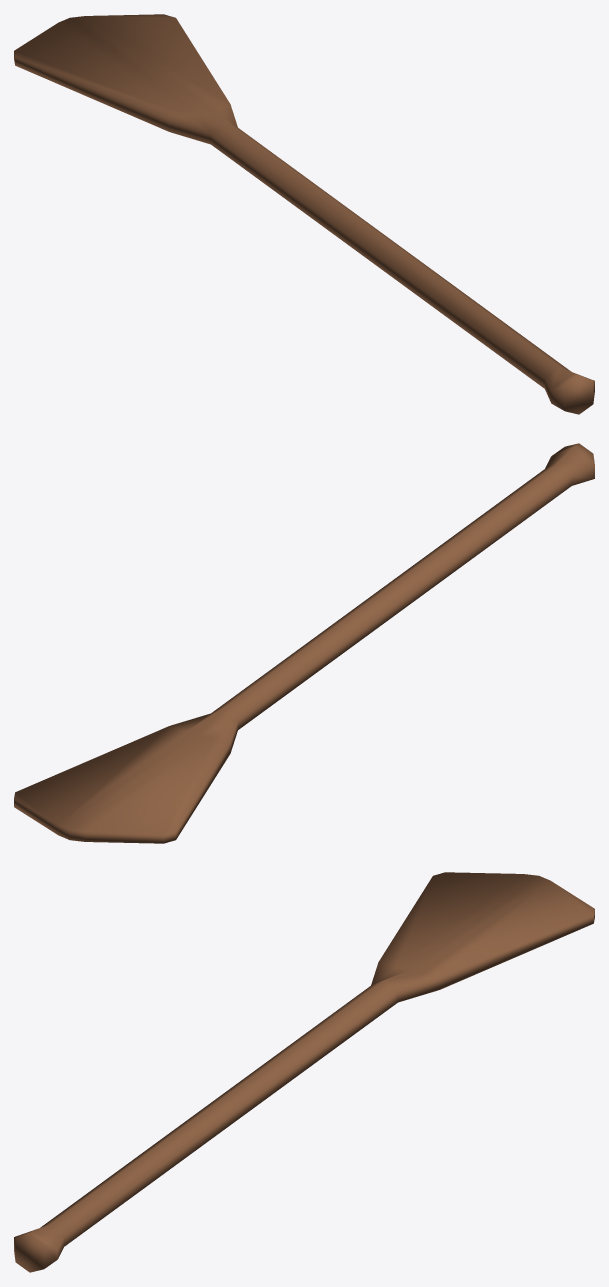
Rendered from BoatOar.fbx.
3 renders of one model, top to bottom at view 1: azimuth 30°, elevation 25°; view 2: azimuth 150°, elevation 25°; view 3: azimuth 330°, elevation 25°, orthographic.
Visible parts, largest first — view 1: BoatOar; view 2: BoatOar; view 3: BoatOar.
Boxes of the visible parts, left/top/right/bottom form: BoatOar: left=14, top=14, right=594, bottom=414; BoatOar: left=14, top=443, right=594, bottom=843; BoatOar: left=14, top=872, right=594, bottom=1272.
Size of the model in its own units: 41.74 by 9.42 by 229.
